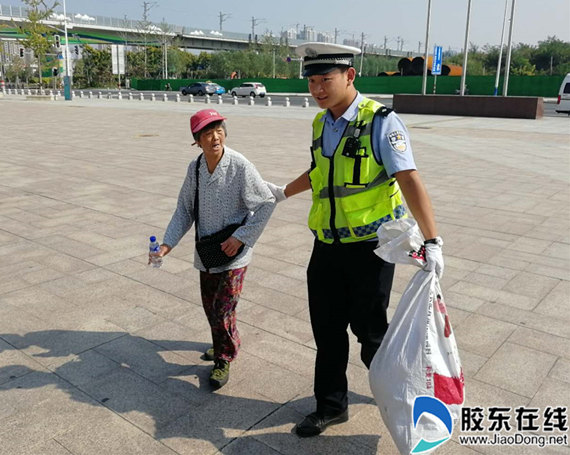nothing: (148, 110, 275, 272)
vest: (266, 42, 445, 276)
